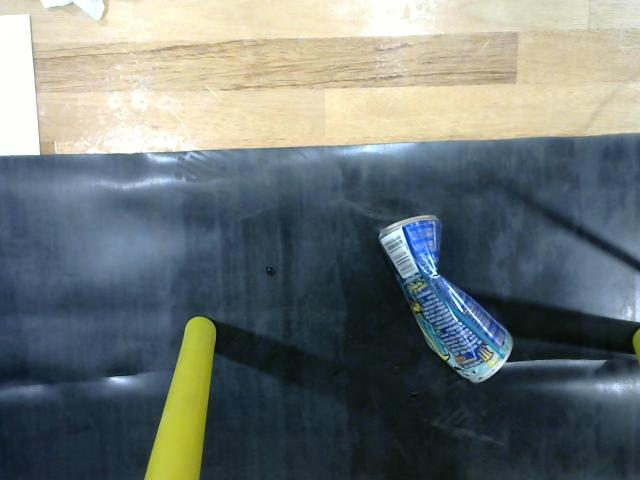can: (369, 201, 527, 398)
